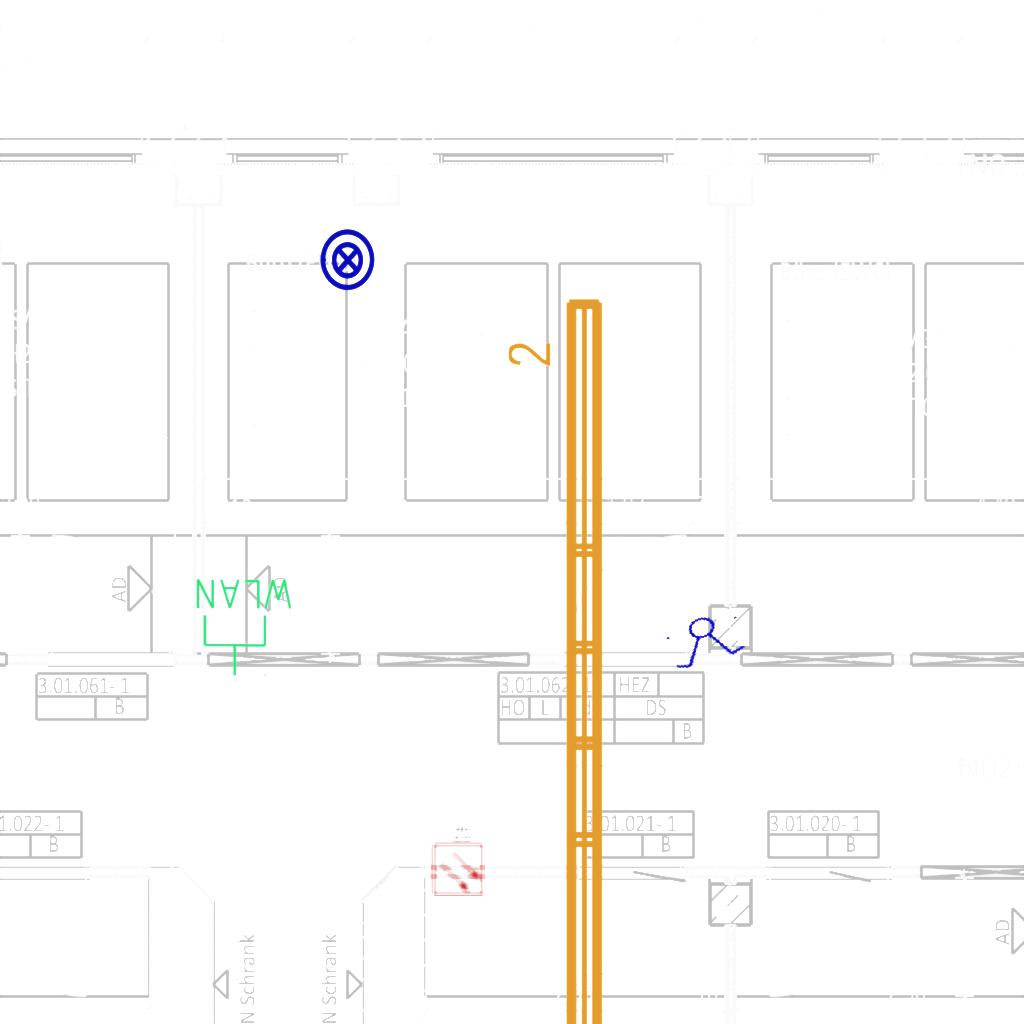Ambulanz_Pendelleuchte_LED: (503, 290, 615, 1024)
Serienschalter: (658, 604, 754, 676)
Taster_beleuchtet: (315, 227, 381, 293)
WLAN: (192, 575, 297, 679)
ZD_Melder_in_Zwischendecke_mit_Revisionsoeffnung_mind_40_x_40_cm: (429, 823, 486, 897)
